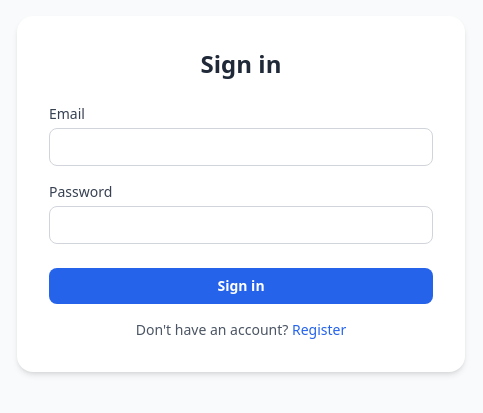
Test: Login Form Validation › shows error for invalid email format
Type "notanemail" into the field labelled "Email".
click(241, 147); type("notanemail")  # box [49,128,433,166]
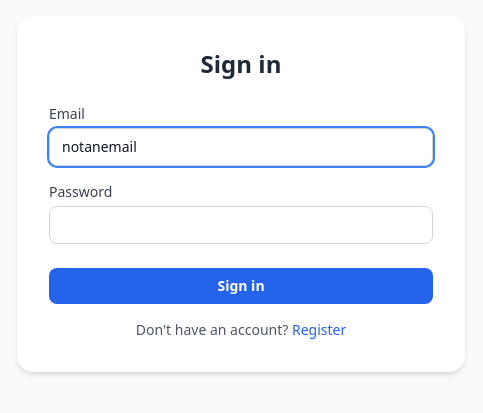
Click the button "Sign in".
click(241, 286)  # box [49,268,433,304]
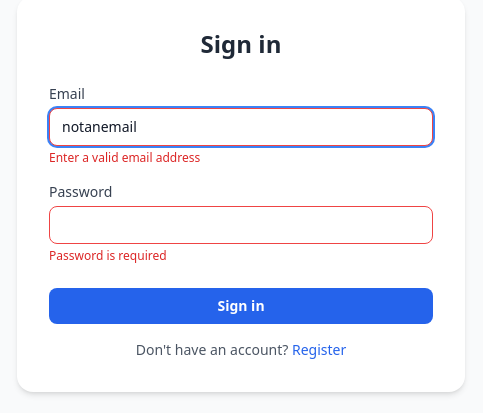
Now the text "Enter a valid email address" is shown, box [49,149,200,166]
